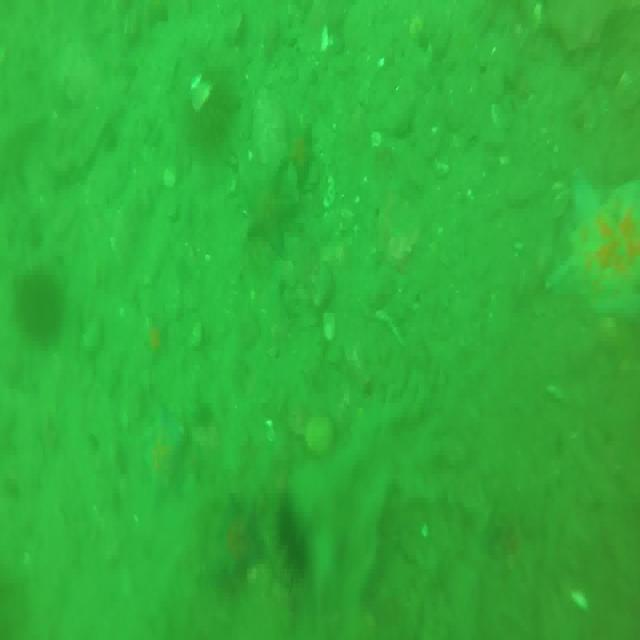echinus: (10, 266, 70, 342), (179, 88, 238, 150)
scallop: (308, 420, 337, 452), (322, 175, 337, 205)
starfish: (544, 171, 640, 318), (134, 408, 188, 534), (237, 155, 296, 249), (1, 85, 43, 217)
